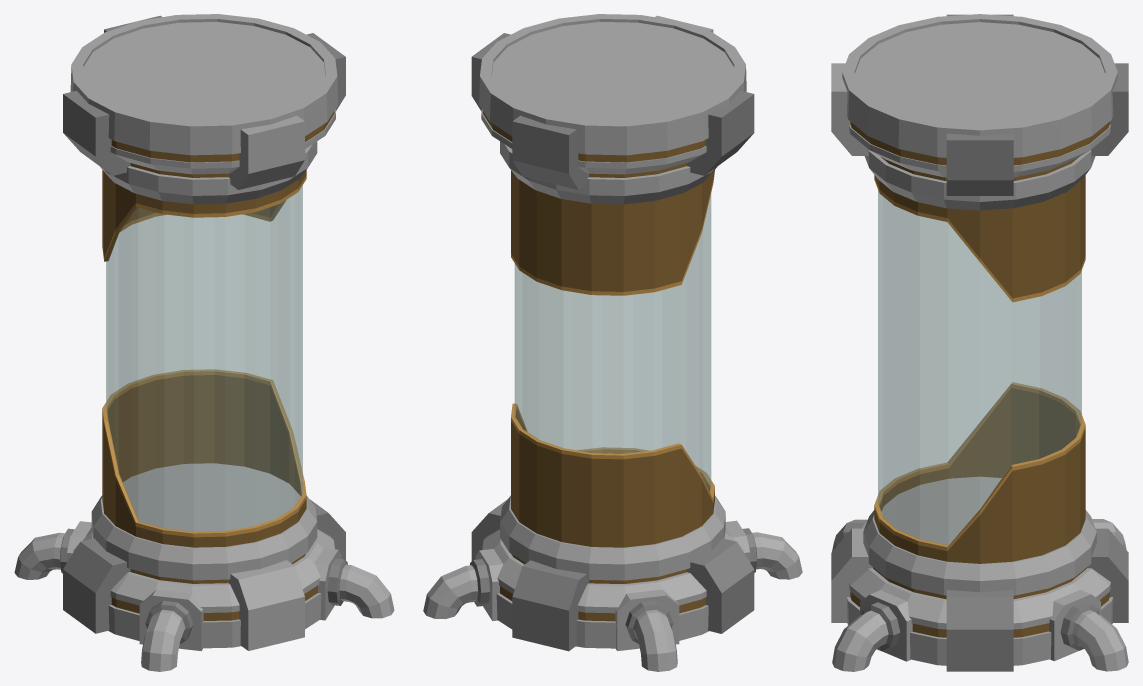
Rendered from Props_Pod.gltf.
The picture shows the model from 3 angles, left to right: view 1: azimuth 30°, elevation 25°; view 2: azimuth 150°, elevation 25°; view 3: azimuth 270°, elevation 25°; orthographic projection. The views are drawn at different scales.
Visible parts, largest first — view 1: Props_Pod; view 2: Props_Pod; view 3: Props_Pod.
Boxes of the visible parts, bbox=[...] form: Props_Pod: bbox=[14, 14, 394, 671]; Props_Pod: bbox=[423, 14, 802, 671]; Props_Pod: bbox=[831, 14, 1128, 671].
Bounding box in the file's own units: 1.81 × 3.61 × 1.81.
